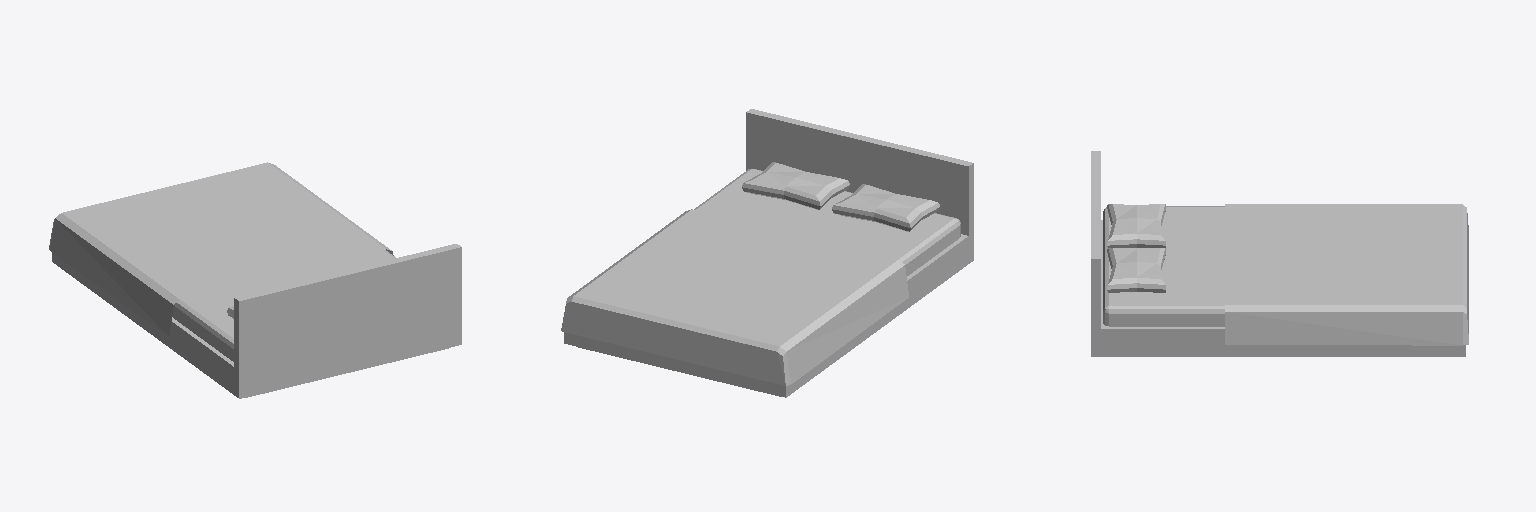
The model's file is bed.obj.
3 renders of one model, left to right at view 1: azimuth 30°, elevation 25°; view 2: azimuth 150°, elevation 25°; view 3: azimuth 270°, elevation 25°, orthographic.
Size of the model in its own units: 3.23 by 1.37 by 4.6.